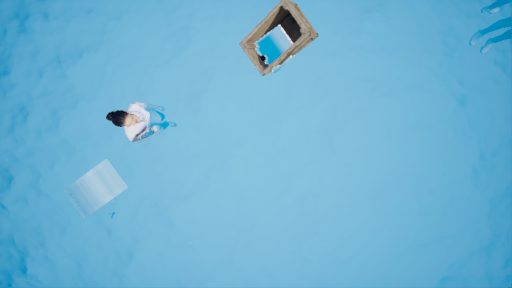person: (101, 96, 184, 150)
